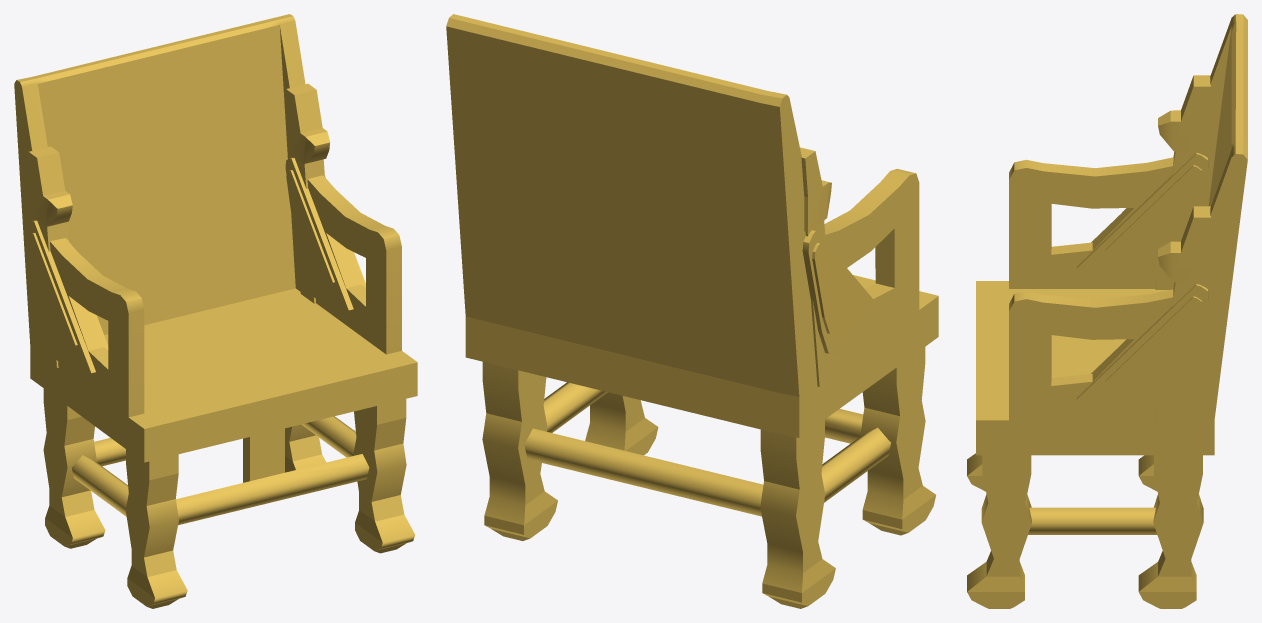
File: egy_throne.fbx
The picture shows the model from 3 angles, left to right: view 1: azimuth 30°, elevation 25°; view 2: azimuth 150°, elevation 25°; view 3: azimuth 270°, elevation 25°; orthographic projection. The views are drawn at different scales.
Visible parts, largest first — view 1: pCube46, pCube43, pCube44, pCube50, pCylinder14, pCube47, pCube49, pCylinder17, pCube48, pCylinder16, pCylinder15; view 2: pCube46, pCube49, pCube48, pCube50, pCube44, pCylinder15, pCube47, pCylinder17, pCylinder16, pCylinder14; view 3: pCube46, pCube43, pCube44, pCube47, pCube48, pCylinder16, pCube50, pCube49.
Part boxes in pixels (box(x1,y1,x2,y2)): pCube46: box(14, 14, 417, 462); pCube43: box(285, 83, 365, 310); pCube44: box(28, 146, 108, 373); pCube50: box(125, 449, 187, 608); pCylinder14: box(176, 428, 369, 525); pCube47: box(353, 399, 414, 553); pCube49: box(43, 388, 105, 548); pCylinder17: box(71, 455, 128, 516); pCube48: box(285, 424, 326, 472); pCylinder16: box(301, 416, 356, 457); pCylinder15: box(94, 438, 125, 466); pCube46: box(446, 14, 938, 437); pCube49: box(760, 419, 835, 608); pCube48: box(482, 362, 557, 540); pCube50: box(860, 347, 935, 535); pCube44: box(800, 147, 885, 386); pCylinder15: box(524, 428, 763, 516); pCube47: box(585, 392, 658, 455); pCylinder17: box(821, 427, 890, 502); pCylinder16: box(543, 382, 607, 432); pCylinder14: box(825, 409, 863, 443); pCube46: box(976, 14, 1247, 455); pCube43: box(1076, 206, 1210, 422); pCube44: box(1076, 75, 1210, 289); pCube47: box(967, 455, 1031, 608); pCube48: box(1138, 455, 1203, 608); pCylinder16: box(1028, 507, 1157, 534); pCube50: box(967, 453, 985, 491); pCube49: box(1138, 455, 1157, 491).
Bounding box in the file's own units: 1.49 × 2.2 × 1.21.
